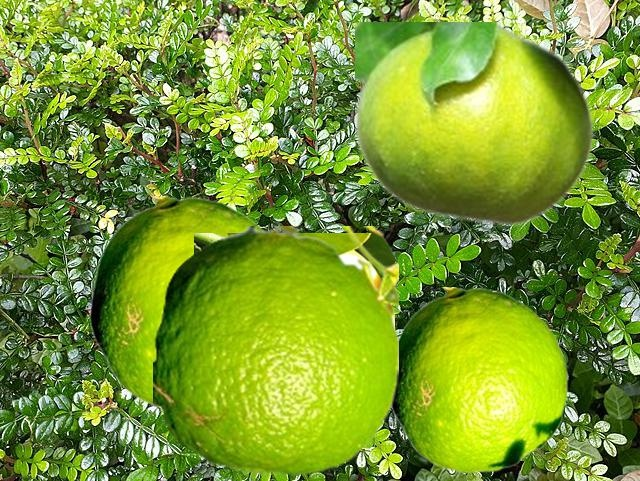dalandan: (153, 226, 397, 474), (355, 22, 594, 226), (89, 196, 265, 409), (391, 287, 567, 472), (194, 233, 393, 312)
